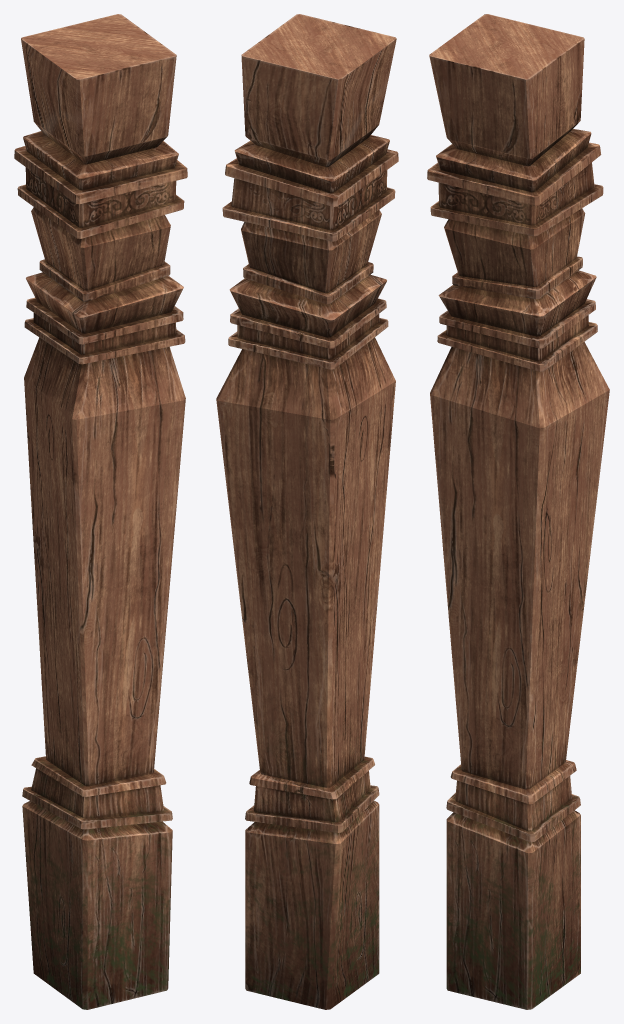
File: SM_Column01.fbx
3 renders of one model, left to right at view 1: azimuth 30°, elevation 25°; view 2: azimuth 150°, elevation 25°; view 3: azimuth 330°, elevation 25°, orthographic.
Visible parts, largest first — view 1: SM_Column01_LOD0; view 2: SM_Column01_LOD0; view 3: SM_Column01_LOD0.
Part boxes in pixels (x1,y1,x2,y2): SM_Column01_LOD0: (14, 14, 187, 1009); SM_Column01_LOD0: (216, 14, 398, 1009); SM_Column01_LOD0: (427, 14, 609, 1009).
Bounding box in the file's own units: 53.06 × 48.8 × 382.
Materials: 1 (1 with a texture image).
